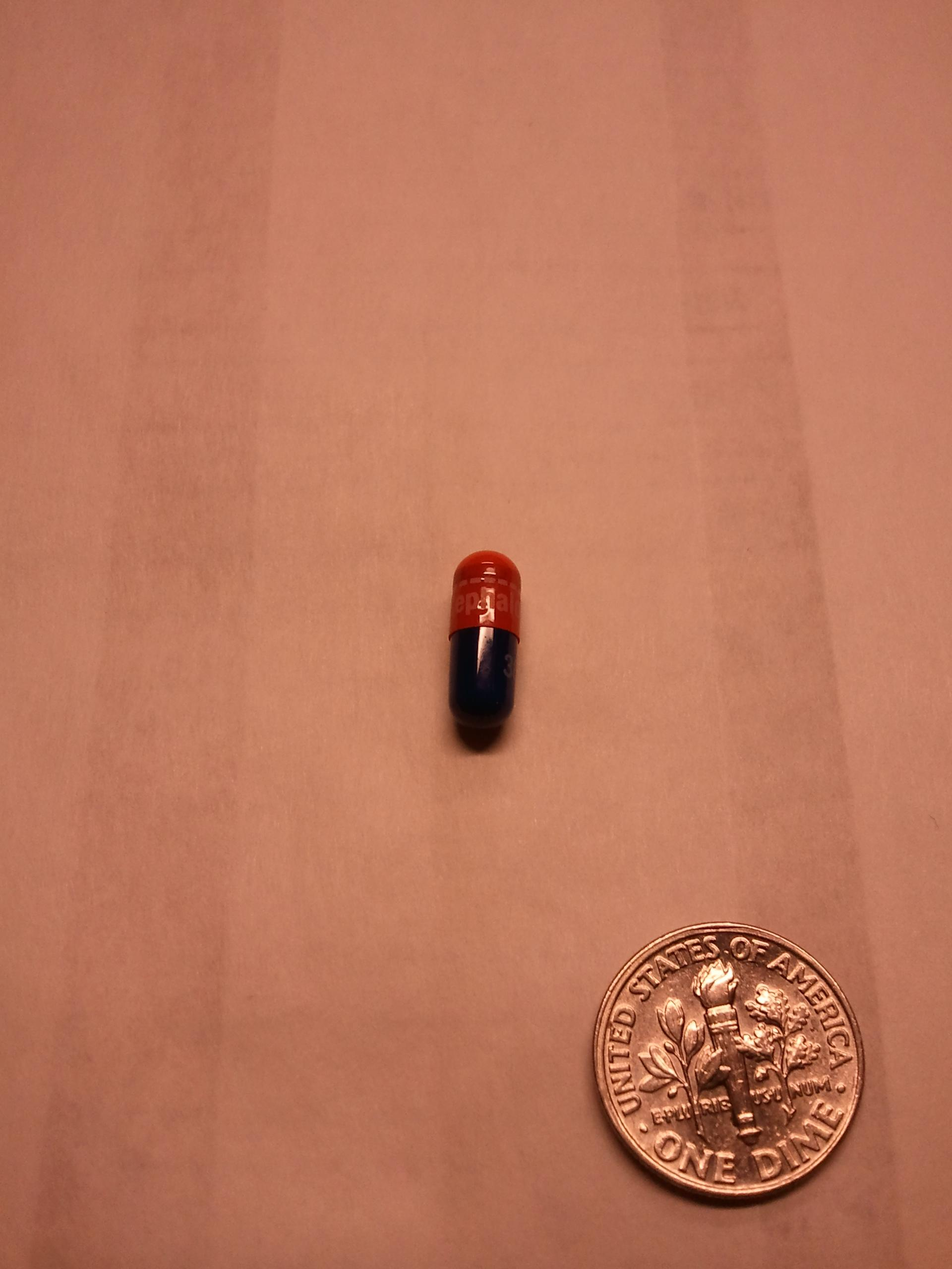Pill: (419, 533, 540, 757)
